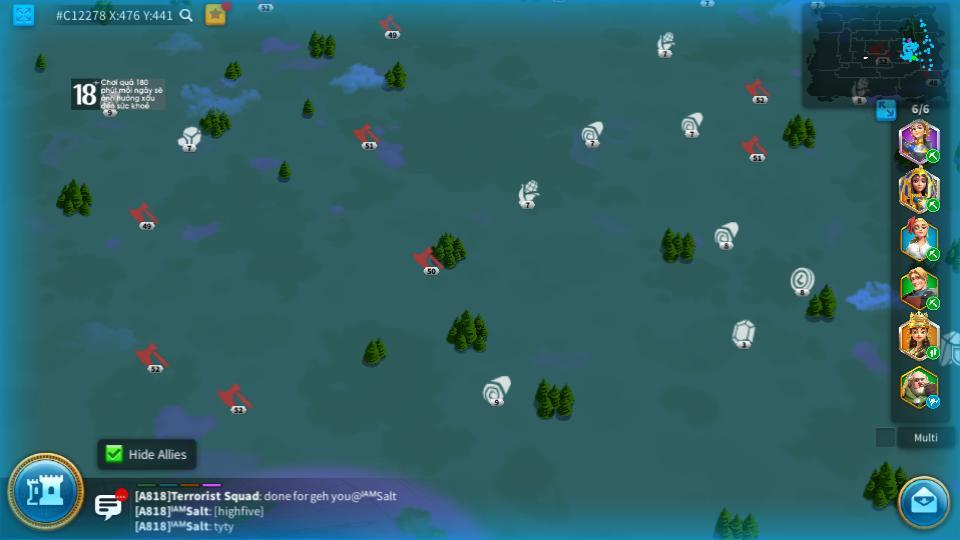gem-z-out: (731, 319, 756, 346), (698, 0, 715, 6)
march_farming: (925, 197, 941, 212), (924, 248, 939, 260), (925, 297, 941, 308)
march_idle: (925, 396, 942, 408)
march_marching: (925, 148, 941, 161), (925, 347, 941, 359)
